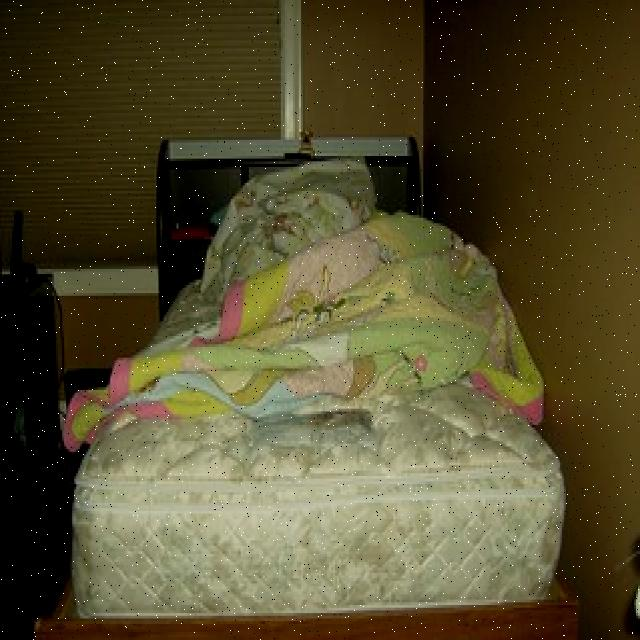bed: (60, 131, 520, 575)
